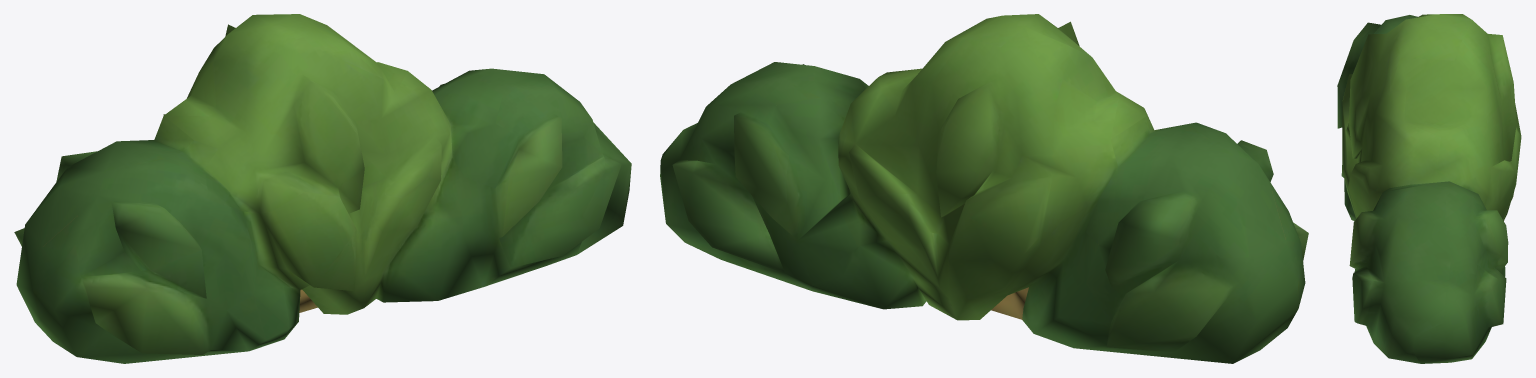
File: bush-lite.glb
3 views of the same model, side by side, from view 1: azimuth 30°, elevation 25°; view 2: azimuth 150°, elevation 25°; view 3: azimuth 270°, elevation 25° (orthographic). The views are drawn at different scales.
Visible parts, largest first — view 1: tripo_node_156801bc-41d3-4054-98b6-6e0de3e11dd0; view 2: tripo_node_156801bc-41d3-4054-98b6-6e0de3e11dd0; view 3: tripo_node_156801bc-41d3-4054-98b6-6e0de3e11dd0.
Part boxes in pixels (x1,y1,x2,y2): tripo_node_156801bc-41d3-4054-98b6-6e0de3e11dd0: (14,14,631,363); tripo_node_156801bc-41d3-4054-98b6-6e0de3e11dd0: (660,14,1308,363); tripo_node_156801bc-41d3-4054-98b6-6e0de3e11dd0: (1337,14,1521,363).
Bounding box in the file's own units: 1 × 0.4278 × 0.3224.
1 material, 1 textured.
